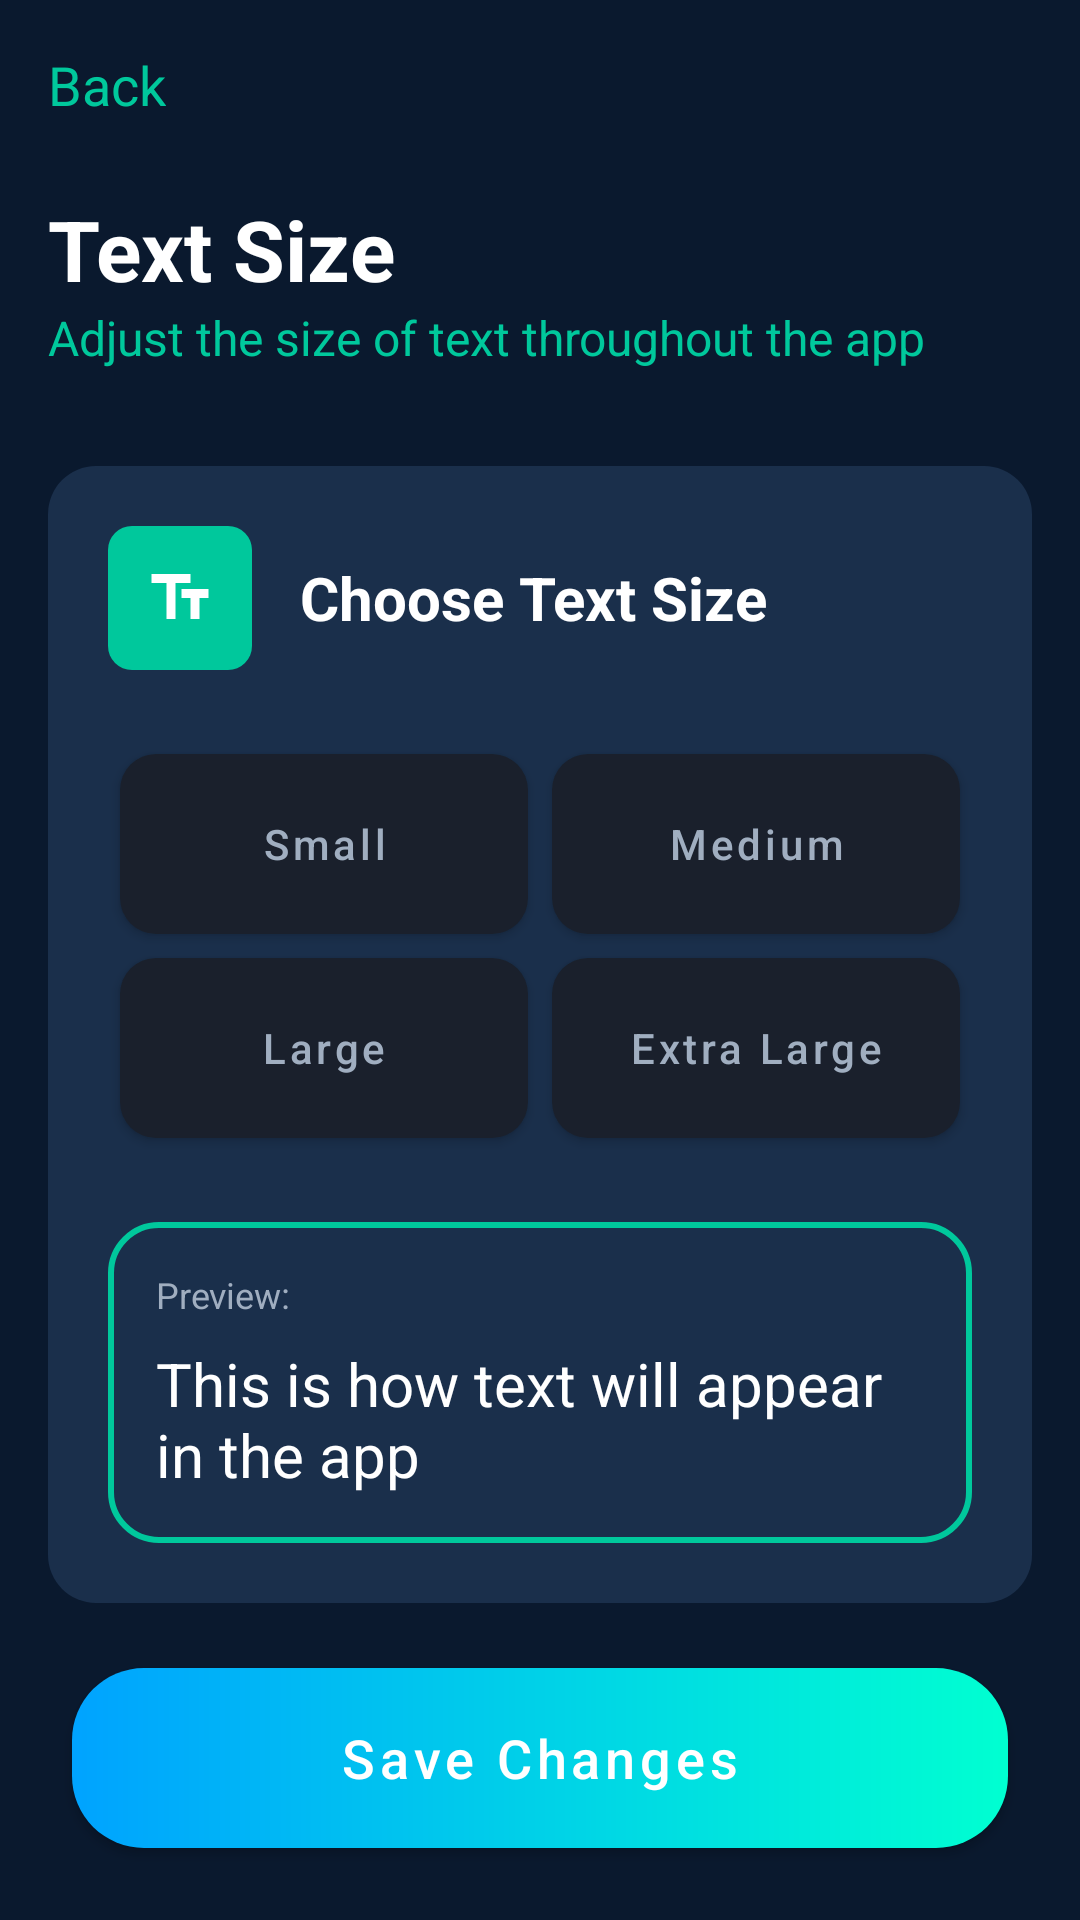

Icons on this 1080px×1920px Android screen, each with its box as detection(x1, y1, x2, y2):
text fields: detection(108, 526, 252, 670)
